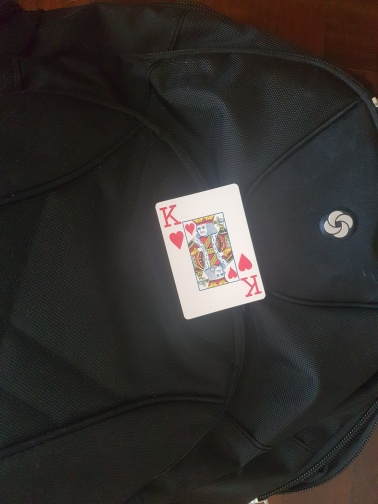king: (153, 184, 266, 320)
